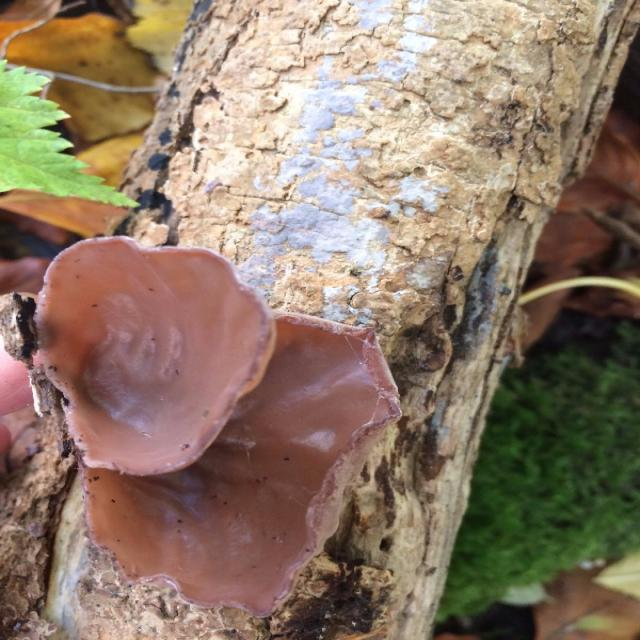Auricularia auricula: (33, 235, 404, 613)
